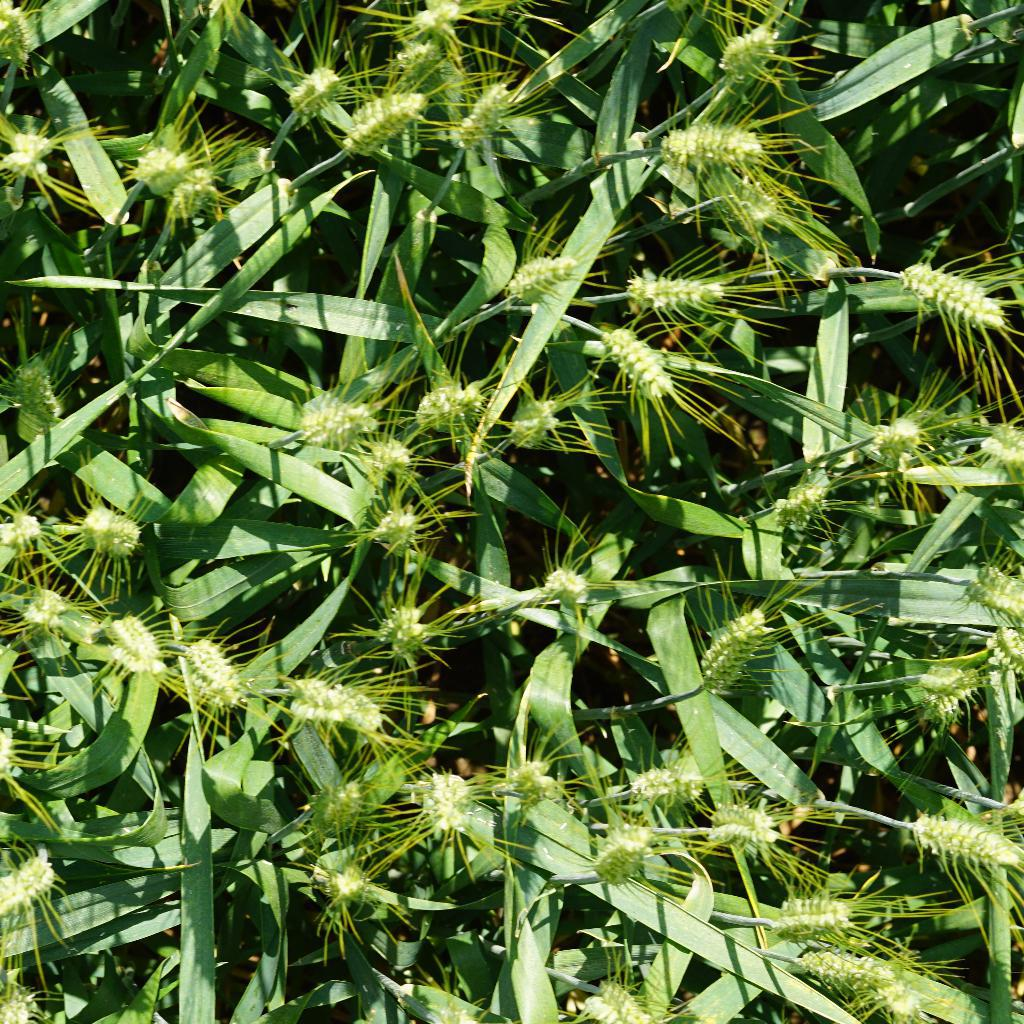0-0: (900, 242, 1011, 343), (688, 597, 781, 707), (781, 941, 912, 1016), (903, 798, 1023, 874), (165, 623, 257, 717), (266, 672, 388, 740), (649, 112, 776, 175), (620, 257, 737, 321), (344, 83, 432, 163), (62, 488, 159, 560), (616, 747, 709, 815), (601, 321, 680, 400), (382, 33, 473, 101), (305, 768, 380, 844), (2, 351, 70, 433), (706, 174, 792, 236), (503, 387, 576, 459), (410, 374, 493, 437), (897, 658, 983, 718), (459, 75, 526, 152), (283, 393, 381, 445), (0, 851, 63, 931), (768, 894, 866, 945), (694, 793, 780, 851), (507, 239, 580, 306), (527, 548, 600, 615), (593, 810, 654, 890), (100, 602, 161, 679), (713, 18, 789, 78), (357, 493, 434, 552), (959, 411, 1024, 480), (568, 976, 661, 1024), (309, 852, 380, 911), (417, 761, 474, 833), (359, 429, 422, 486), (283, 60, 339, 124), (134, 138, 191, 200), (0, 115, 55, 179), (384, 594, 440, 656), (12, 580, 75, 634), (780, 474, 833, 533), (873, 413, 929, 467), (970, 567, 1024, 622), (0, 0, 45, 62), (505, 754, 560, 804), (402, 0, 463, 45), (171, 169, 221, 220), (11, 504, 60, 553), (980, 620, 1024, 664)
